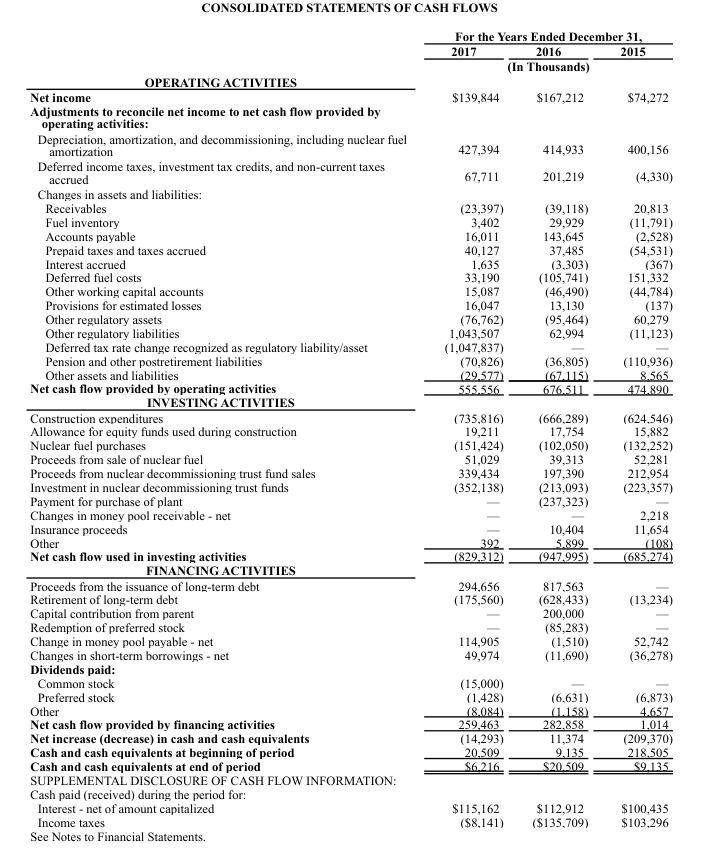table: (29, 28, 671, 828)
table column: (29, 28, 424, 828), (424, 28, 517, 828), (517, 28, 603, 828), (603, 28, 671, 828)
table column header: (29, 28, 671, 73)
table projected row header: (29, 103, 671, 130), (29, 73, 671, 88), (29, 186, 671, 200), (29, 395, 671, 409), (29, 563, 671, 577), (29, 661, 671, 675), (29, 772, 671, 786), (29, 786, 671, 800)
table row: (29, 130, 671, 158), (29, 158, 671, 186), (29, 103, 671, 130), (29, 28, 671, 43), (29, 43, 671, 58), (29, 58, 671, 73), (29, 73, 671, 88), (29, 88, 671, 103), (29, 409, 671, 424), (29, 577, 671, 592), (29, 186, 671, 200), (29, 200, 671, 214), (29, 214, 671, 228), (29, 228, 671, 242), (29, 242, 671, 256), (29, 256, 671, 270), (29, 270, 671, 284), (29, 284, 671, 298), (29, 311, 671, 325), (29, 325, 671, 339), (29, 339, 671, 353), (29, 353, 671, 367), (29, 367, 671, 381), (29, 381, 671, 395), (29, 395, 671, 409), (29, 424, 671, 438), (29, 438, 671, 452), (29, 465, 671, 479), (29, 479, 671, 493), (29, 493, 671, 507), (29, 507, 671, 521), (29, 521, 671, 535), (29, 535, 671, 549), (29, 549, 671, 563), (29, 563, 671, 577), (29, 592, 671, 606), (29, 619, 671, 633), (29, 633, 671, 647), (29, 647, 671, 661), (29, 661, 671, 675), (29, 675, 671, 689), (29, 689, 671, 703), (29, 703, 671, 717), (29, 717, 671, 731), (29, 744, 671, 758), (29, 758, 671, 772), (29, 772, 671, 786), (29, 786, 671, 800), (29, 800, 671, 814), (29, 814, 671, 828), (29, 298, 671, 311), (29, 452, 671, 465), (29, 606, 671, 619), (29, 731, 671, 744)
table spanning cell: (424, 28, 671, 43), (424, 58, 671, 73)
